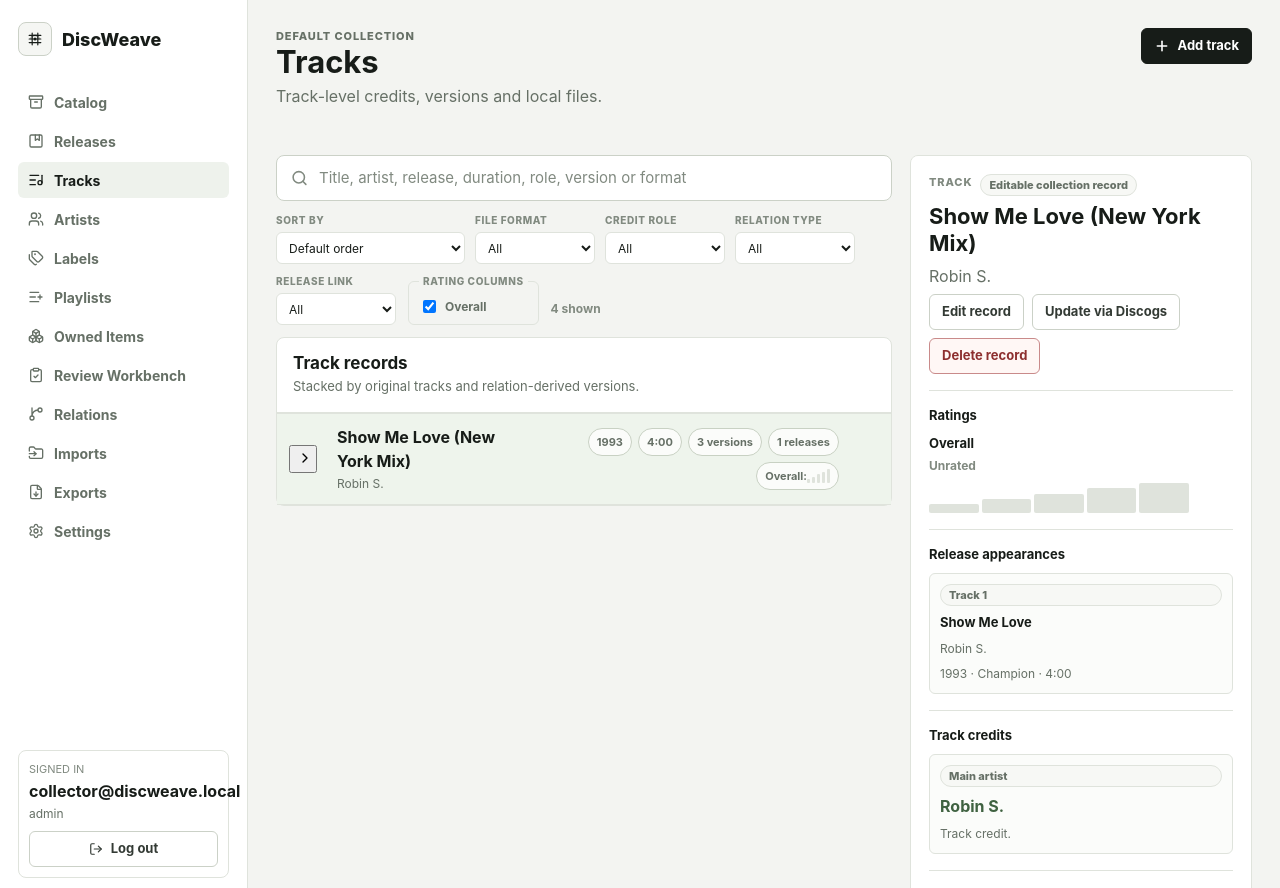
Test: App track stacks workspace › groups expanded stack members by product relation type
This screenshot has width=1280, height=888.
Expected: the heading "Track records" is shown, [293, 353, 408, 373]
What coordinates should you click on to do the following:
click the button named "Expand stack"
I would click on:
 (303, 459)
Its box is [289, 445, 317, 473].
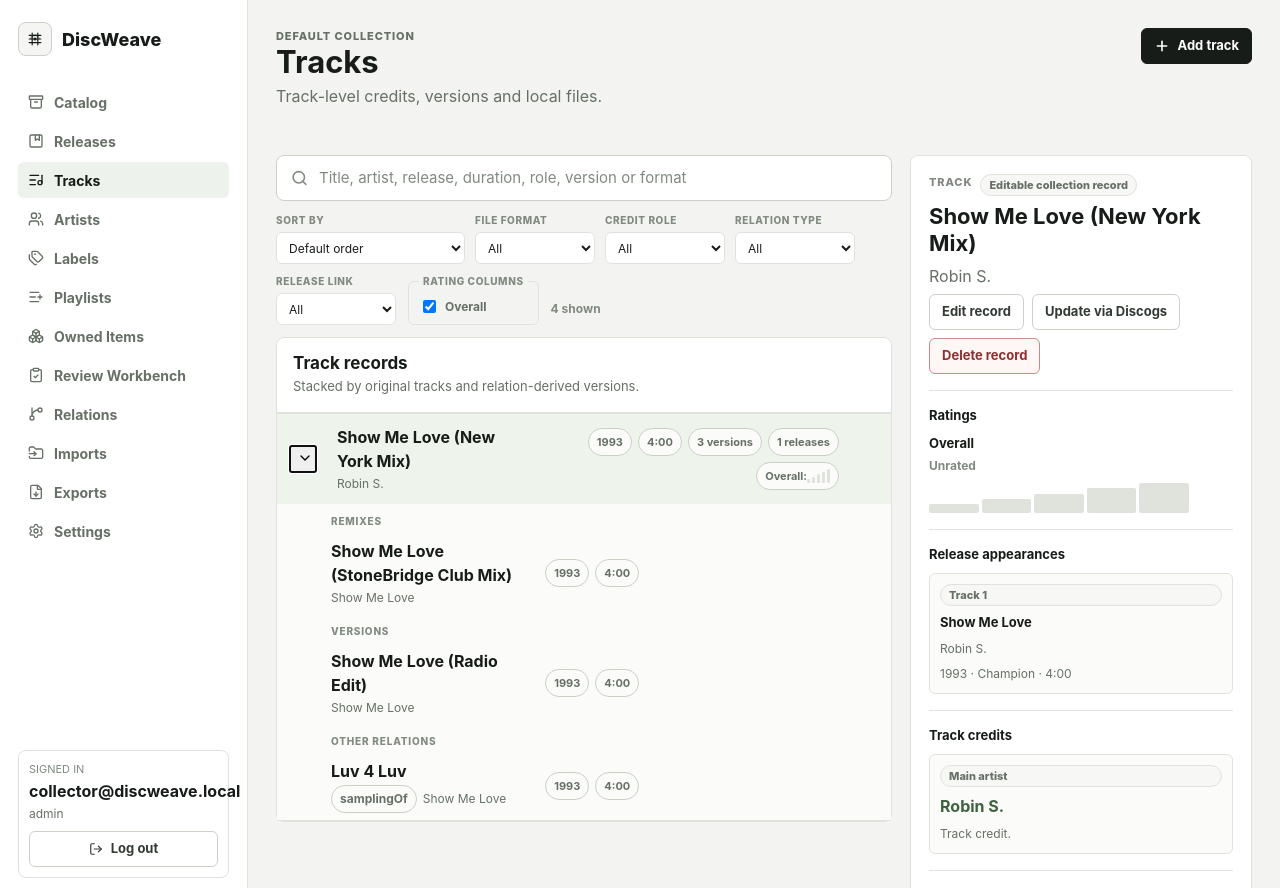
Result: the text "Remixes" is shown at [331, 515, 382, 527]
Result: the text "Versions" is shown at [331, 625, 389, 637]
Result: the text "Other relations" is shown at [331, 735, 436, 747]
What coordinates should you click on to do the following:
click the button "Show Me Love (StoneBridge Club Mix) Show Me Love 1993 4:00"
I would click on:
 (464, 573)
Its box is [277, 532, 651, 614].
(page scrolled)
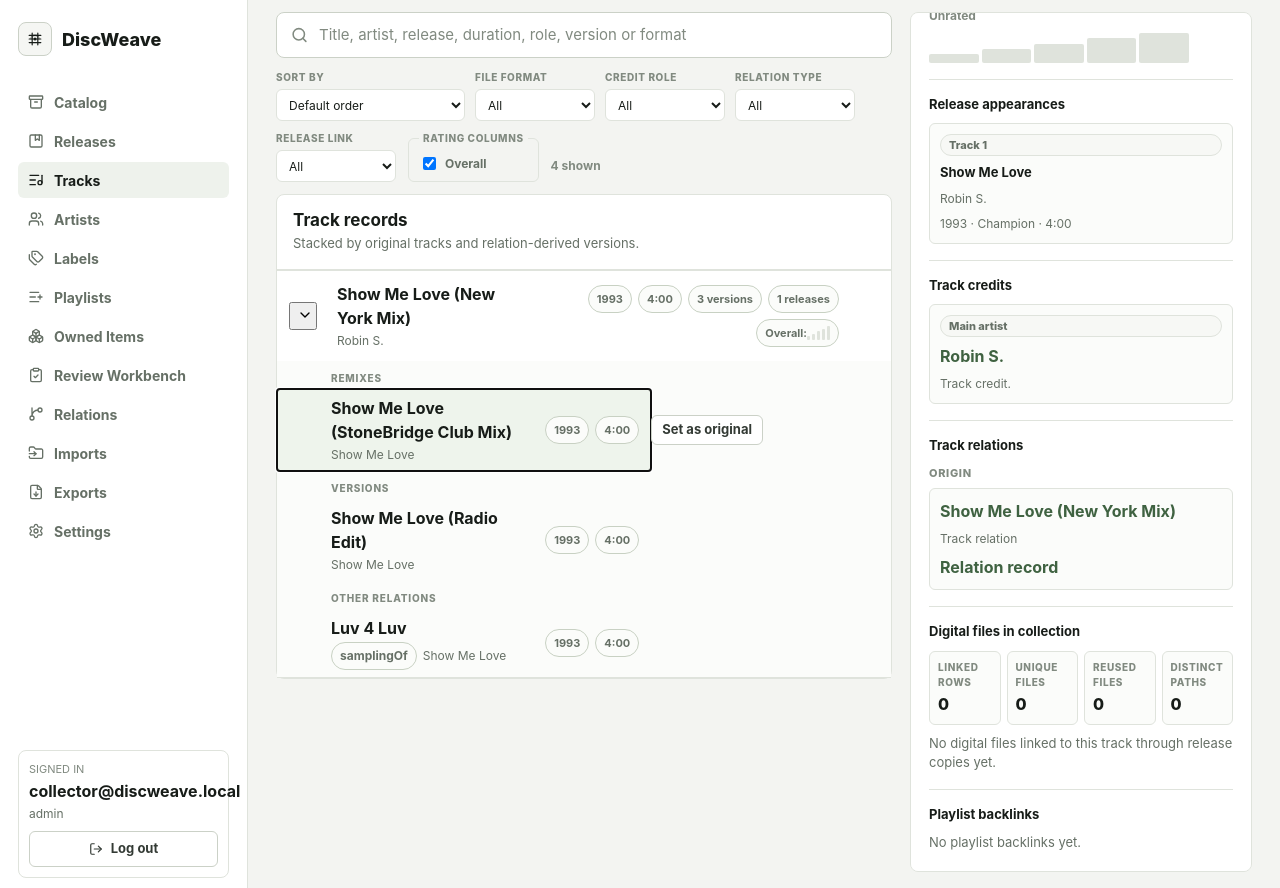
Result: the heading "Origin" is shown at [929, 466, 972, 480]
